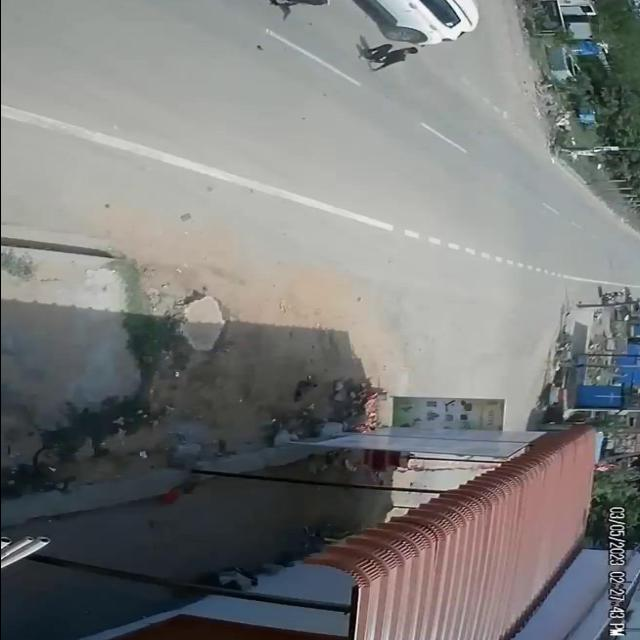accident: (244, 0, 496, 78)
